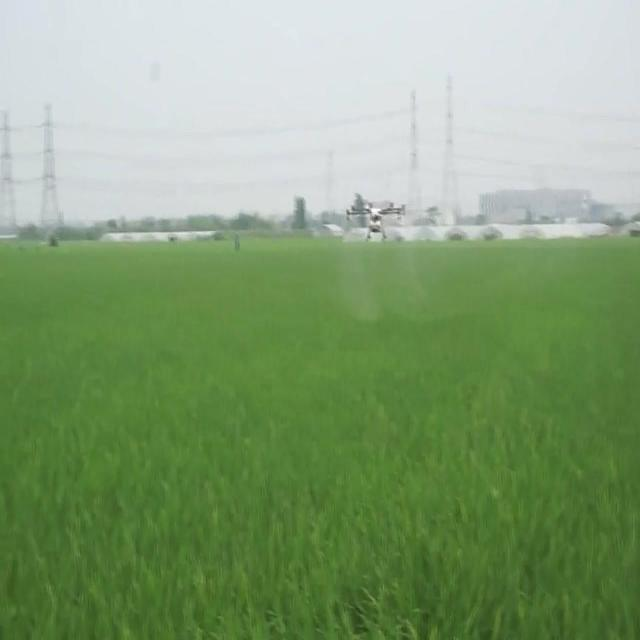UAV: (346, 202, 406, 242)
